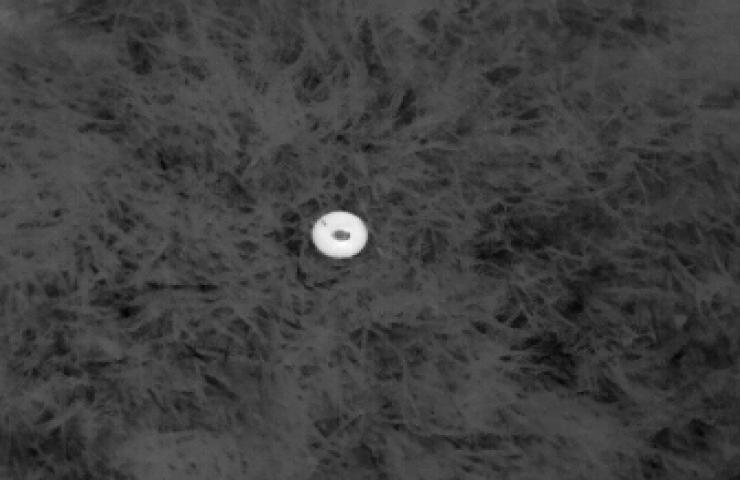landmines: (307, 204, 377, 264)
